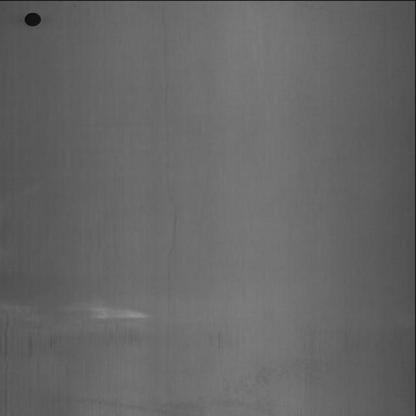punching_hole: (23, 5, 43, 28)
